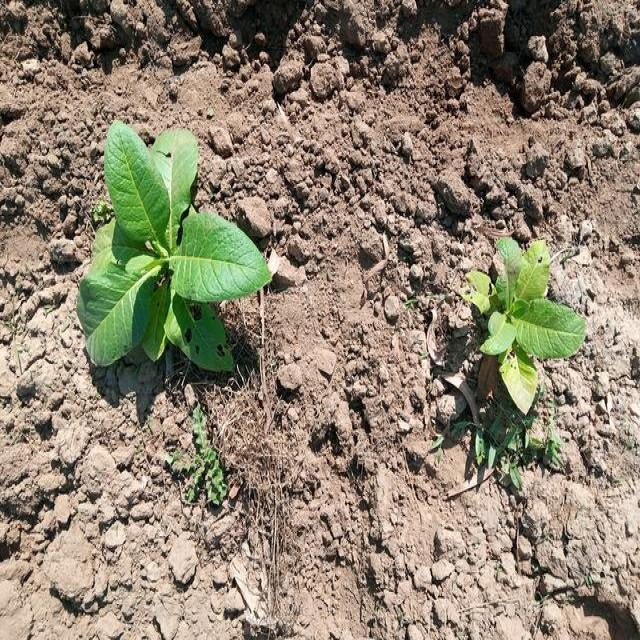crop: (77, 119, 262, 386), (469, 230, 595, 425)
